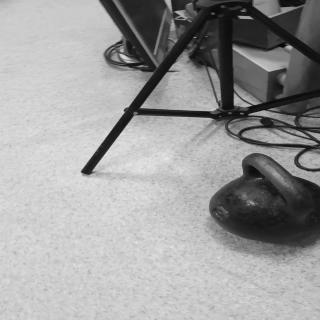girya: (211, 154, 320, 245)
